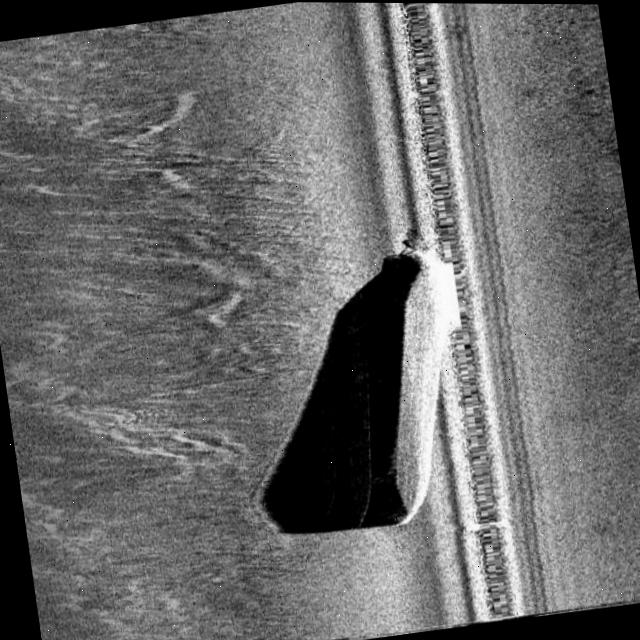shipwreck: (317, 244, 492, 545)
